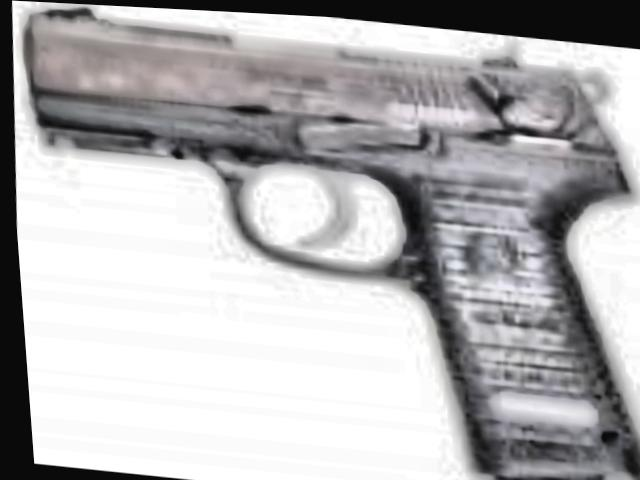pistol: (1, 0, 640, 480)
